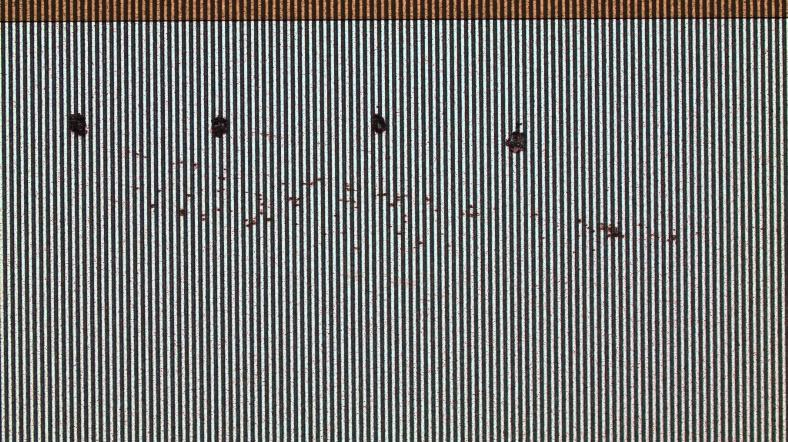SCRATCH: (54, 104, 721, 261)
